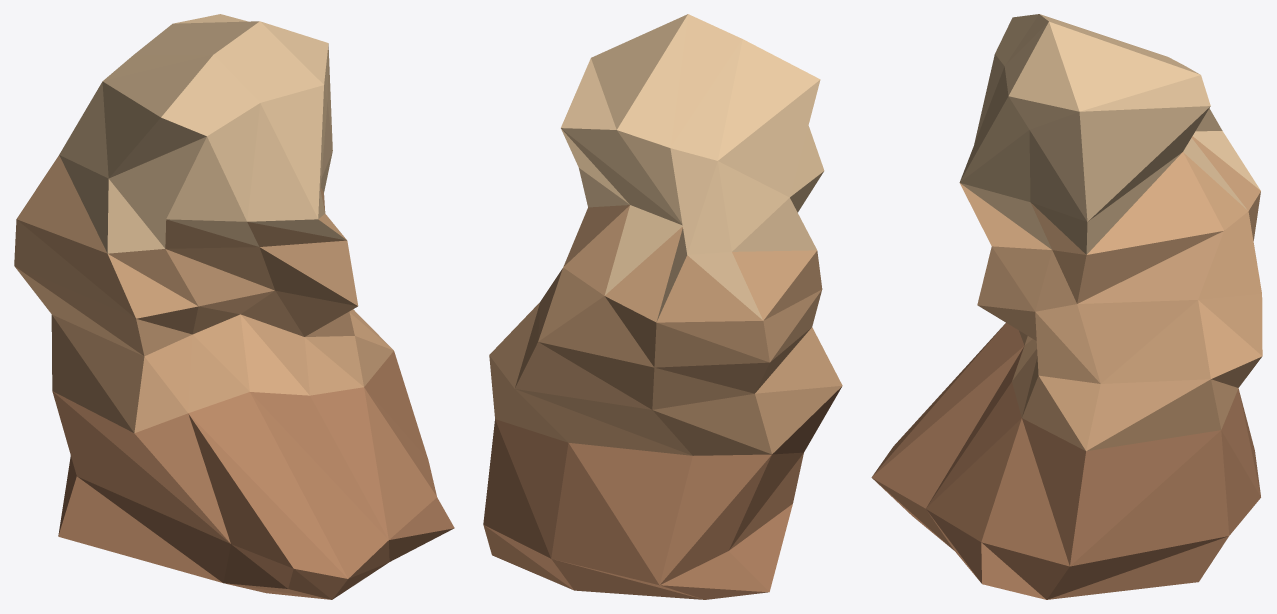
Rendered from canyon-4-0.glb.
3 renders of one model, left to right at view 1: azimuth 30°, elevation 25°; view 2: azimuth 150°, elevation 25°; view 3: azimuth 270°, elevation 25°, orthographic. The views are drawn at different scales.
Visible parts, largest first — view 1: canyon-4-0; view 2: canyon-4-0; view 3: canyon-4-0.
Part boxes in pixels (box(x1,y1,x2,y2)): canyon-4-0: box(14, 14, 454, 599); canyon-4-0: box(483, 14, 842, 599); canyon-4-0: box(871, 14, 1262, 599).
Size of the model in its own units: 16.98 by 26 by 17.7.
